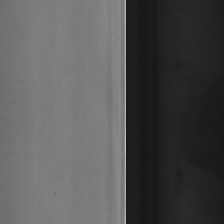inclusion: (53, 188, 57, 197)
